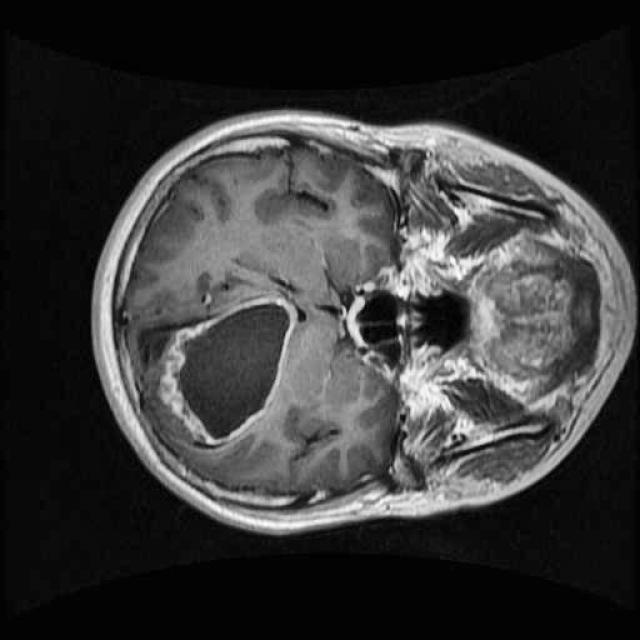Non-Tumor: (146, 284, 304, 460)
